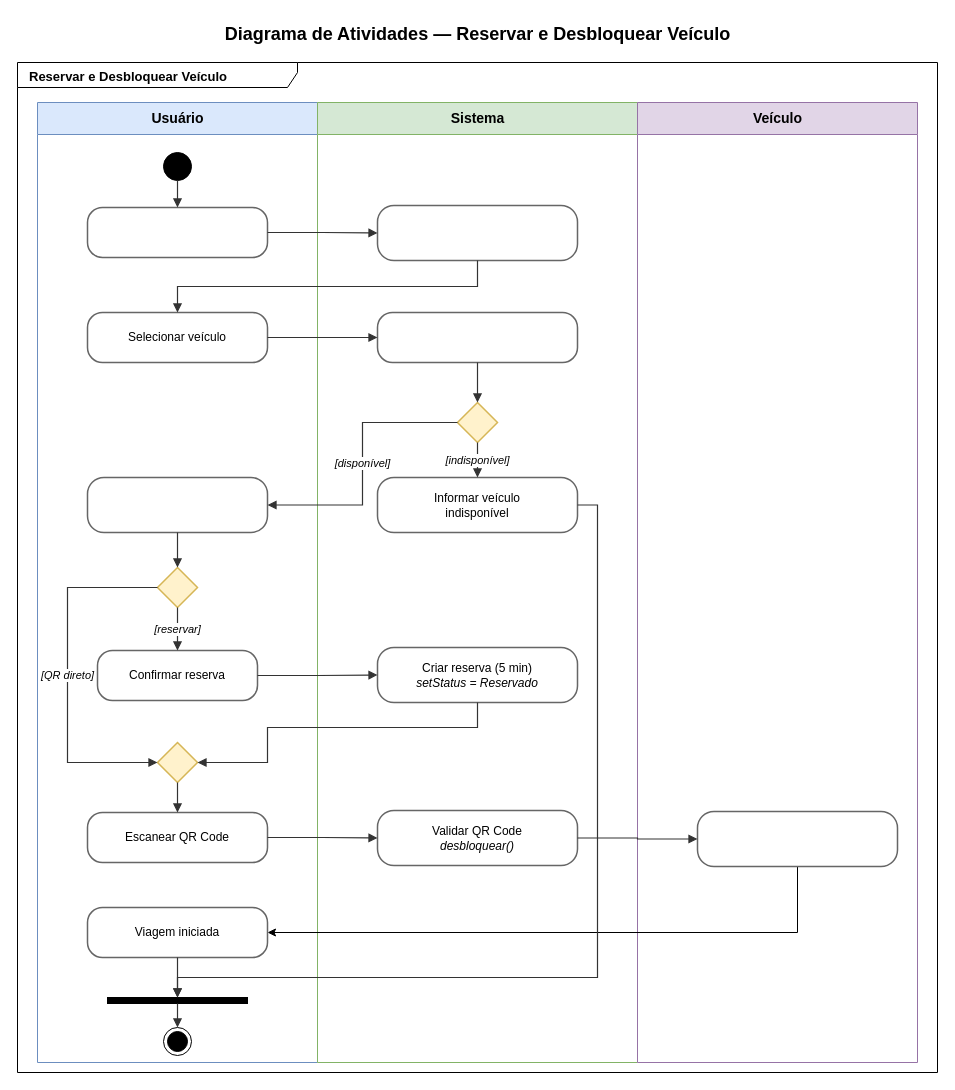
Some shapes in this 955 by 1090 pixel diagram are drawn without their labels. Here are the shapes that lost their labels. From the top down, the centre of each, then its label:
point 177,232: Consultar veículos no mapa
point 477,232: Listar veículos disponíveis consultarVeiculos()
point 477,337: Verificar disponibilidade
point 177,504: Escolher modo de uso
point 797,838: Executar desbloqueio setStatus = Em Uso
